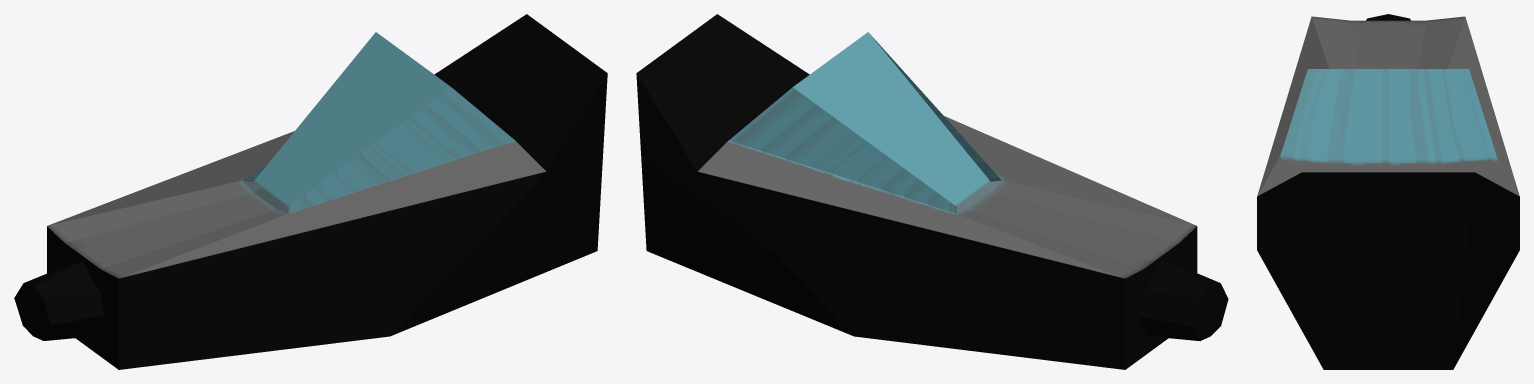
The model's file is nave01.fbx.
3 views of the same model, side by side, from view 1: azimuth 30°, elevation 25°; view 2: azimuth 150°, elevation 25°; view 3: azimuth 270°, elevation 25° (orthographic). The views are drawn at different scales.
Visible parts, largest first — view 1: nave01; view 2: nave01; view 3: nave01.
Boxes of the visible parts, <box> form: nave01: <box>14,14,607,369</box>; nave01: <box>636,14,1228,369</box>; nave01: <box>1257,14,1519,369</box>.
Bounding box in the file's own units: 728 × 275 × 290.
1 material, 1 textured.
